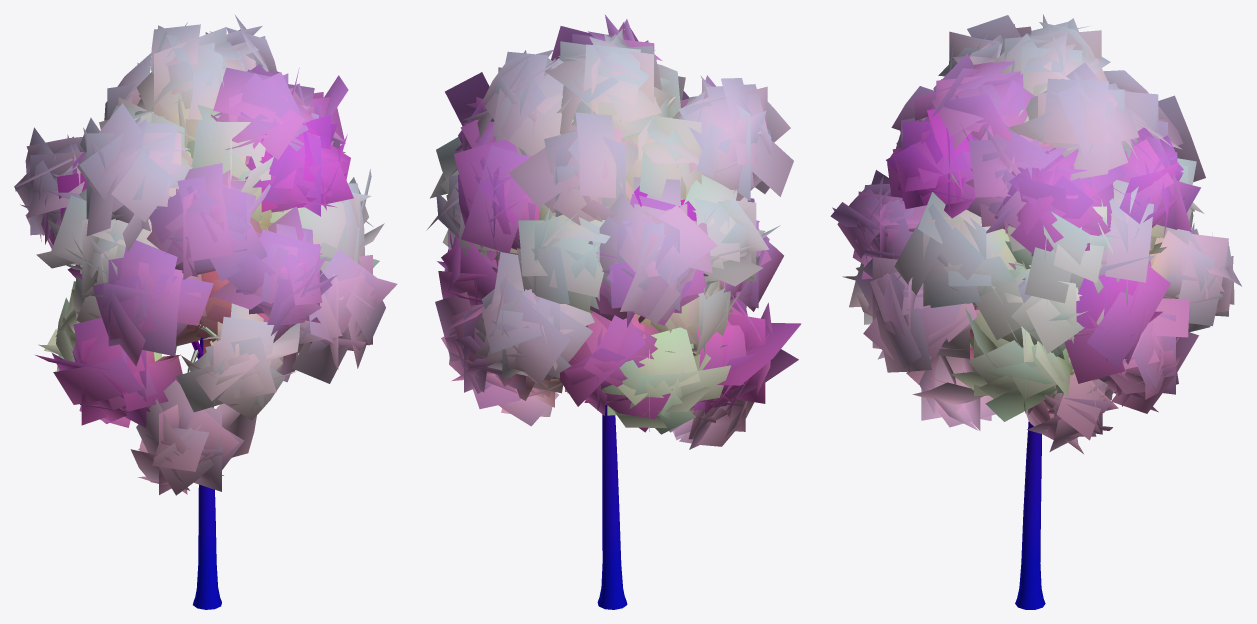
File: broadleaf_b_lod0.glb
The picture shows the model from 3 angles, left to right: view 1: azimuth 30°, elevation 25°; view 2: azimuth 150°, elevation 25°; view 3: azimuth 270°, elevation 25°; orthographic projection.
Parts seen in each view (by area): view 1: broadleaf_b_lod0; view 2: broadleaf_b_lod0; view 3: broadleaf_b_lod0.
Part boxes in pixels (x1=…): broadleaf_b_lod0: x1=14, y1=14, x2=397, y2=609; broadleaf_b_lod0: x1=426, y1=15, x2=801, y2=609; broadleaf_b_lod0: x1=830, y1=14, x2=1241, y2=609.
Size of the model in its own units: 6.34 by 10.62 by 6.88.
